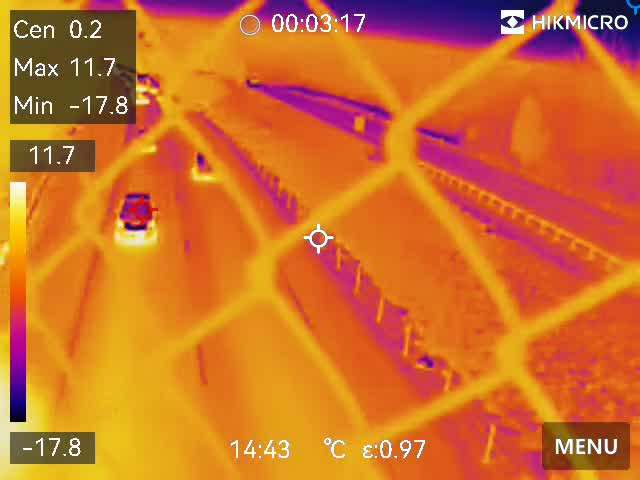smallCar: (114, 188, 165, 242)
vehicle: (191, 151, 224, 186)
